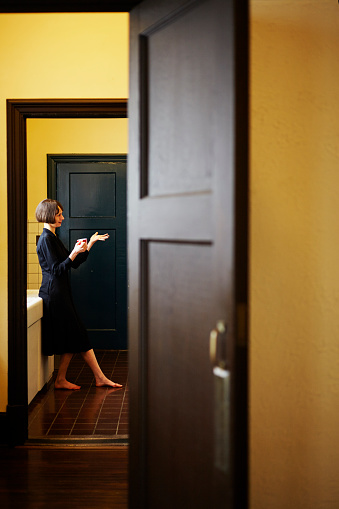em pe: (24, 185, 99, 402)
